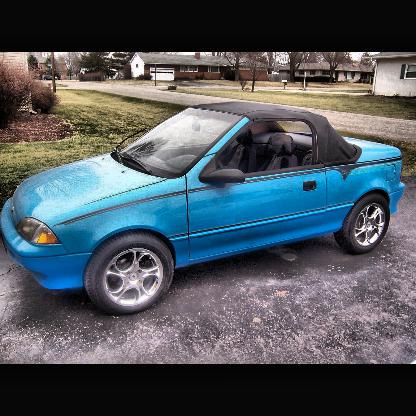Geo Metro Convertible 1993: (1, 105, 407, 318)
